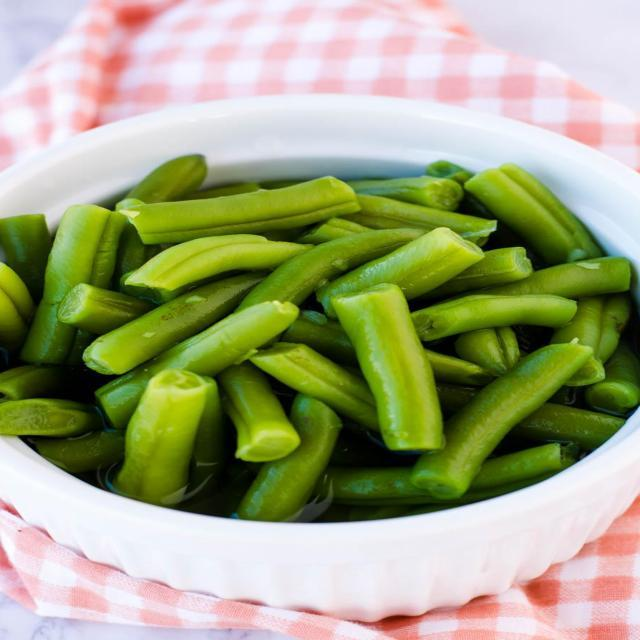Beans: (0, 126, 639, 527)
